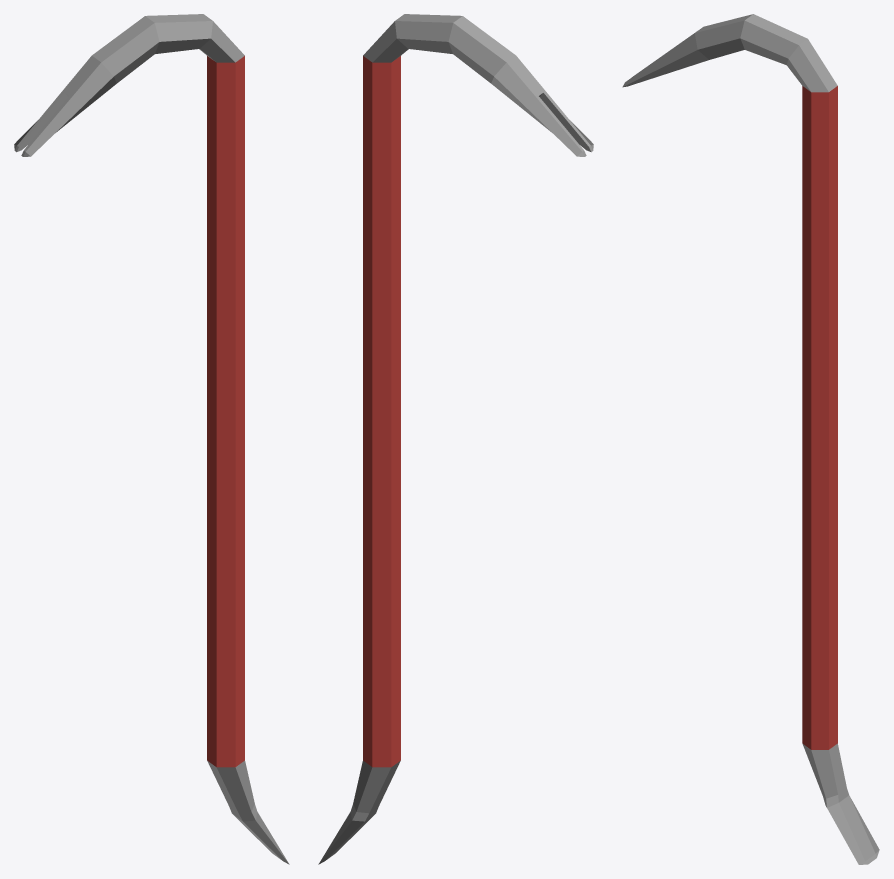
The model's file is Crowbar_01.fbx.
3 renders of one model, left to right at view 1: azimuth 30°, elevation 25°; view 2: azimuth 150°, elevation 25°; view 3: azimuth 330°, elevation 25°, orthographic. The views are drawn at different scales.
Visible parts, largest first — view 1: Crowbar_01; view 2: Crowbar_01; view 3: Crowbar_01.
Boxes of the visible parts, x1=… form: Crowbar_01: x1=14, y1=14, x2=289, y2=864; Crowbar_01: x1=318, y1=14, x2=593, y2=864; Crowbar_01: x1=622, y1=14, x2=879, y2=864.
Bounding box in the file's own units: 0.2044 × 0.6472 × 0.03.
